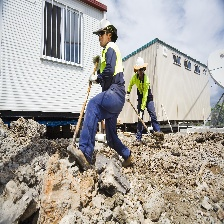person: (73, 14, 133, 172), (129, 54, 161, 148)
